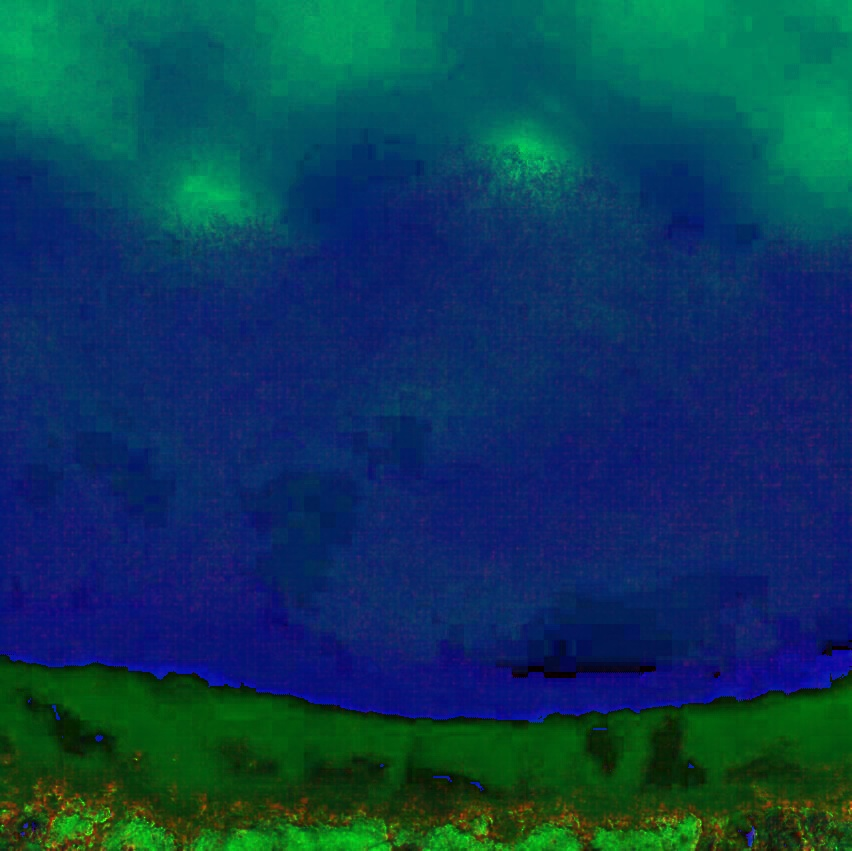rip_current: (227, 311, 537, 643)
